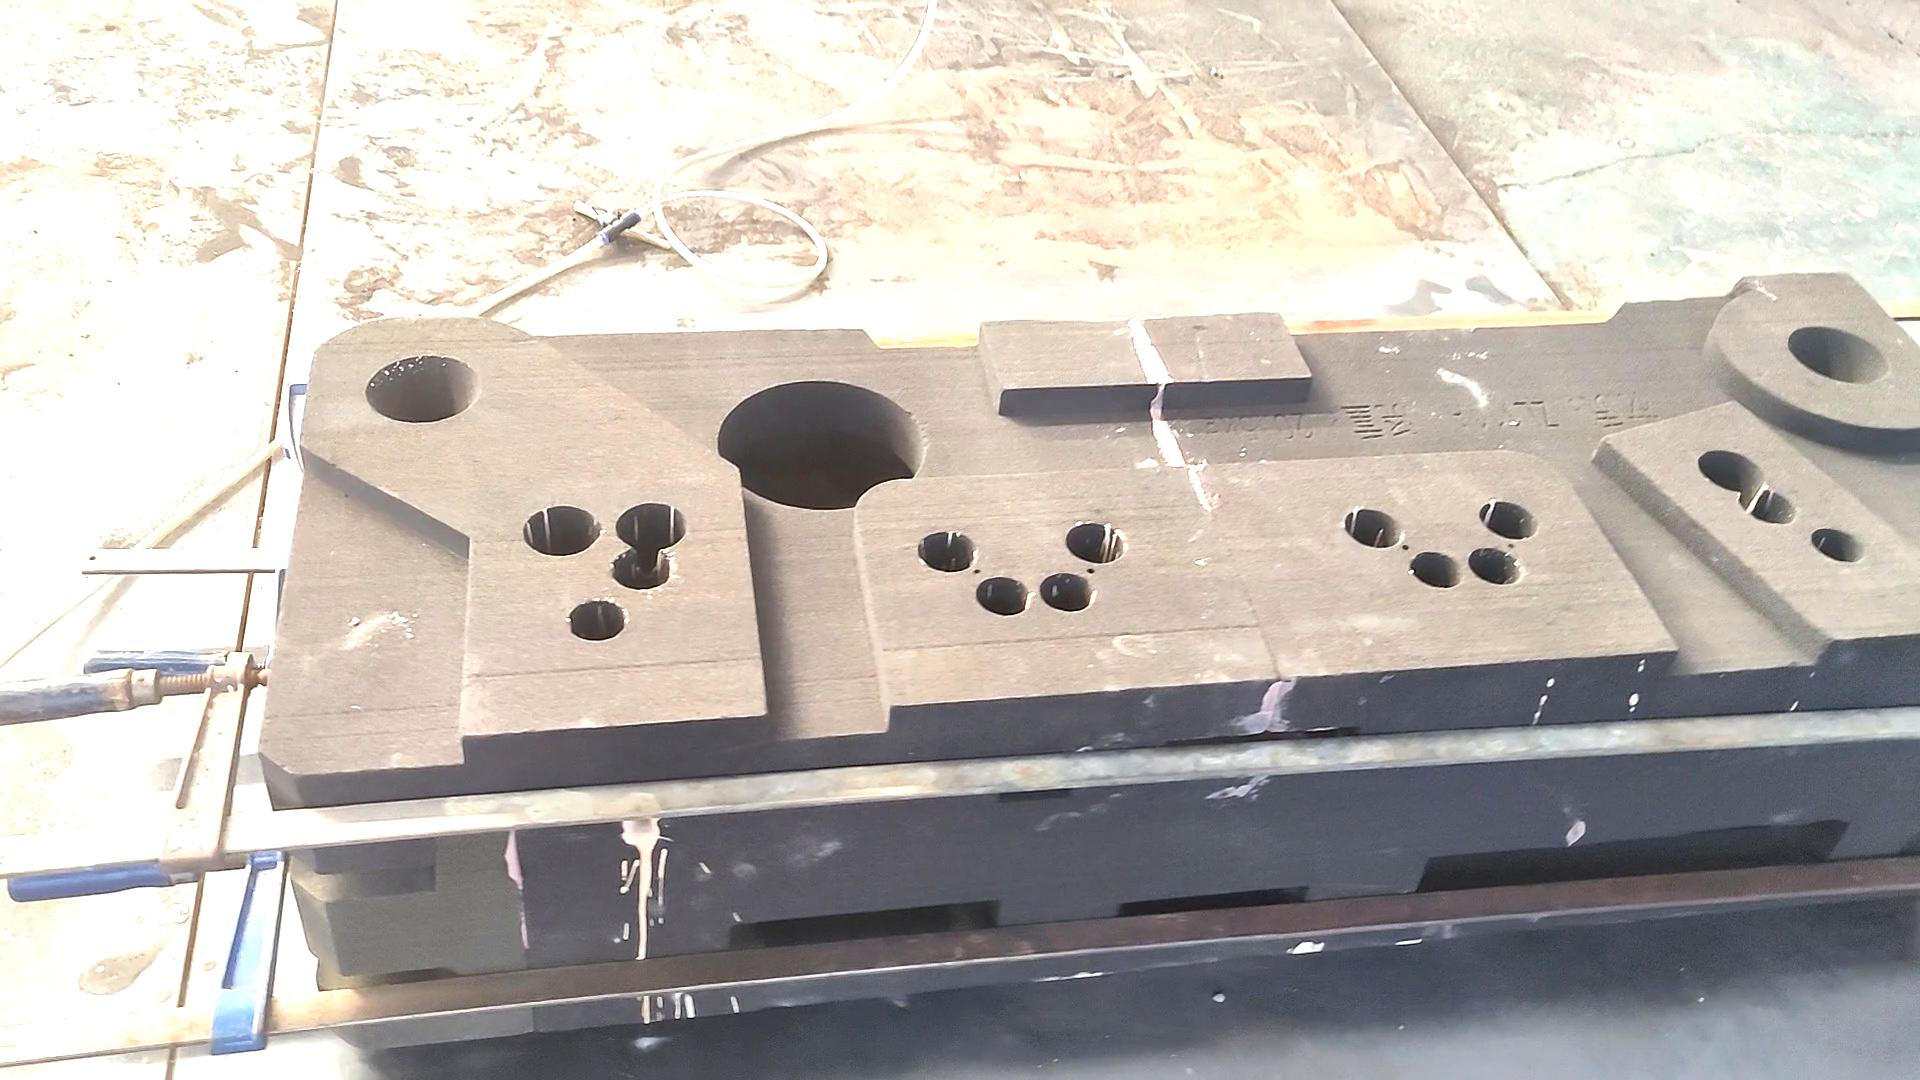pouring hole: (365, 356, 483, 423), (1787, 324, 1888, 386)
